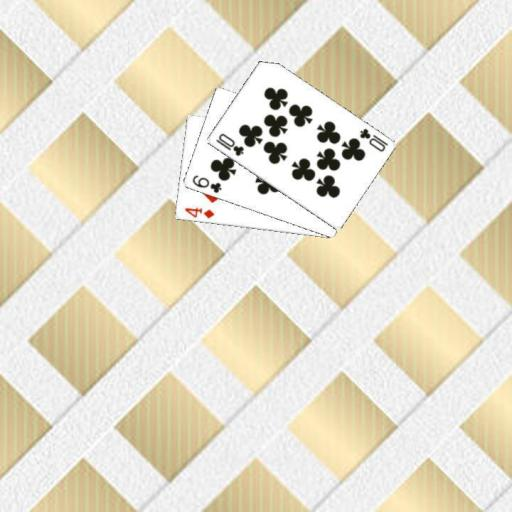card-corner: (356, 125, 389, 154), (213, 130, 245, 158), (189, 172, 223, 195), (182, 204, 216, 221)
